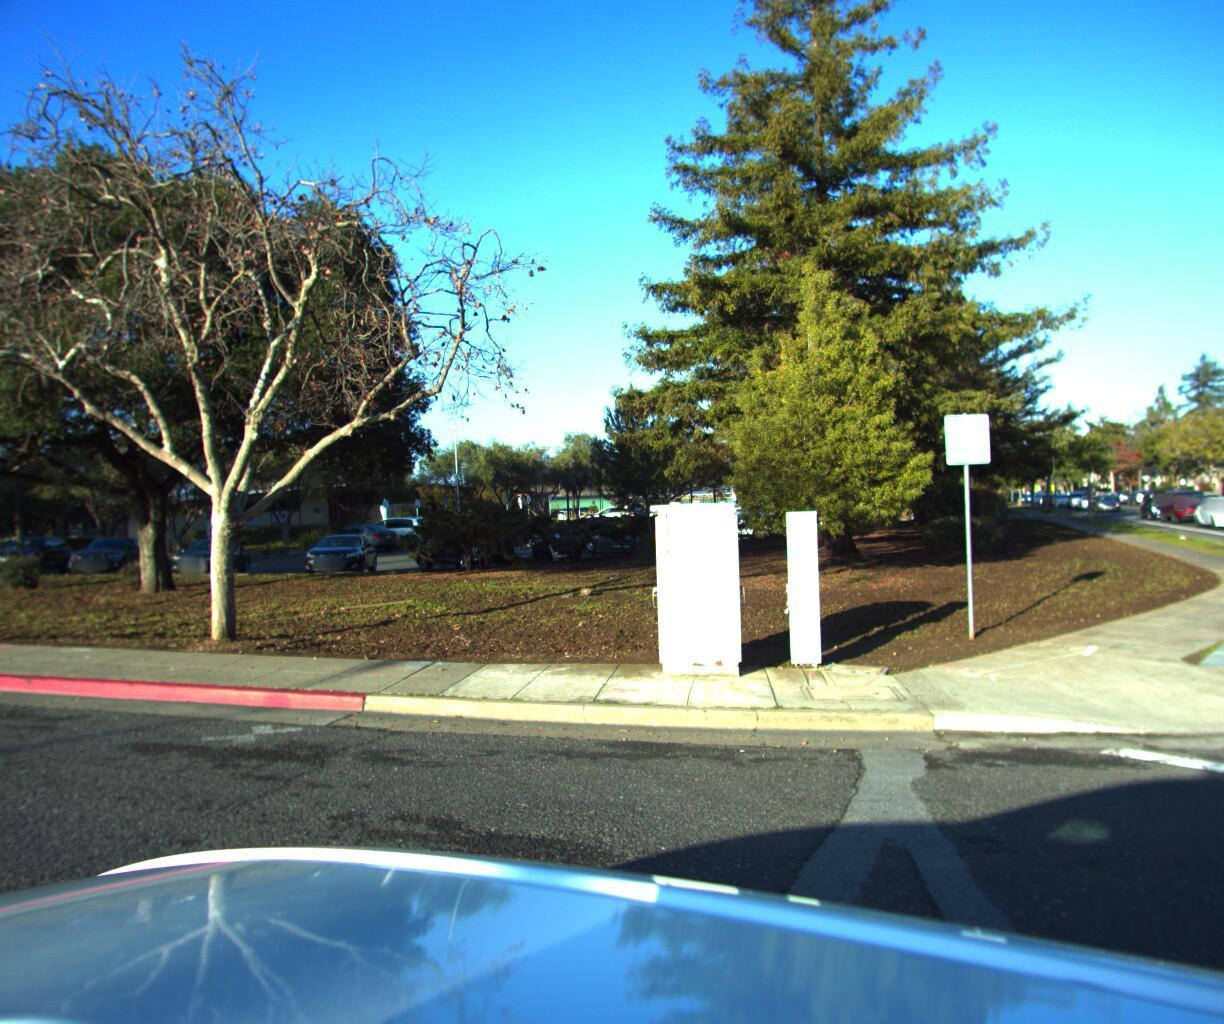car: (1152, 480, 1219, 516), (1187, 487, 1224, 526), (1087, 489, 1121, 511), (1221, 488, 1224, 534)
